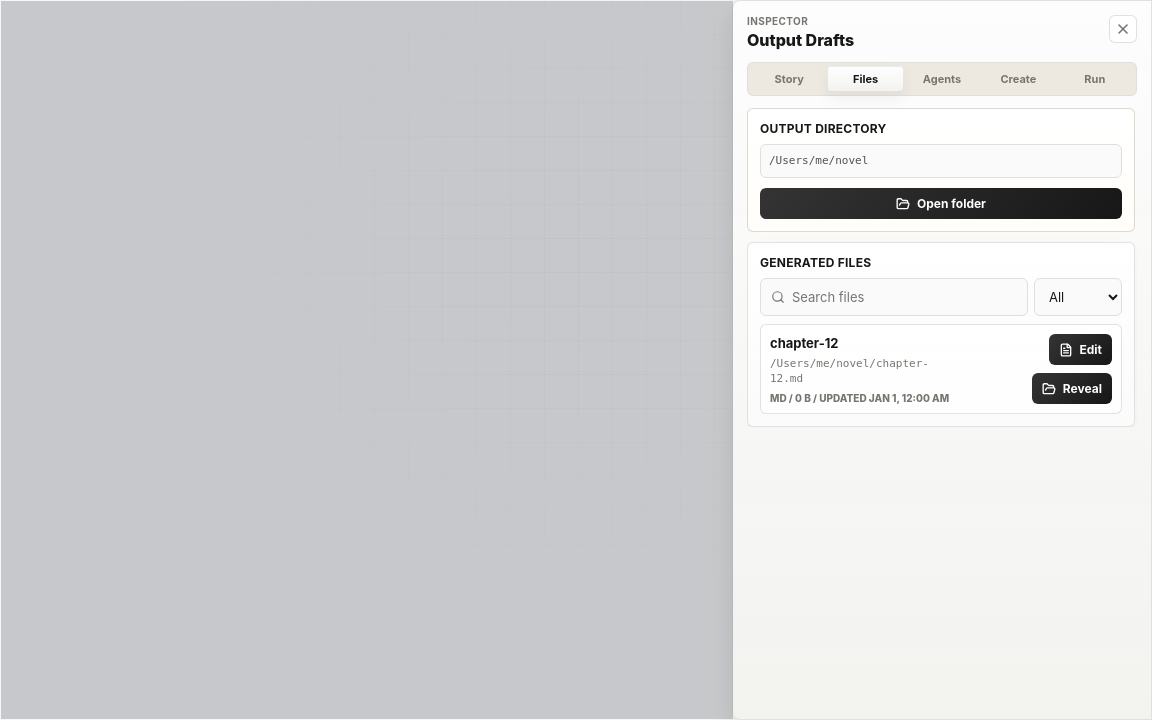
it: InspectorPanel › marks dirty workspace files and reverts to the loaded editor baseline
Click the button with aria-label "Open chapter-12 in editor". click: [1080, 350]
box: [1048, 334, 1112, 365]
(page scrolled)
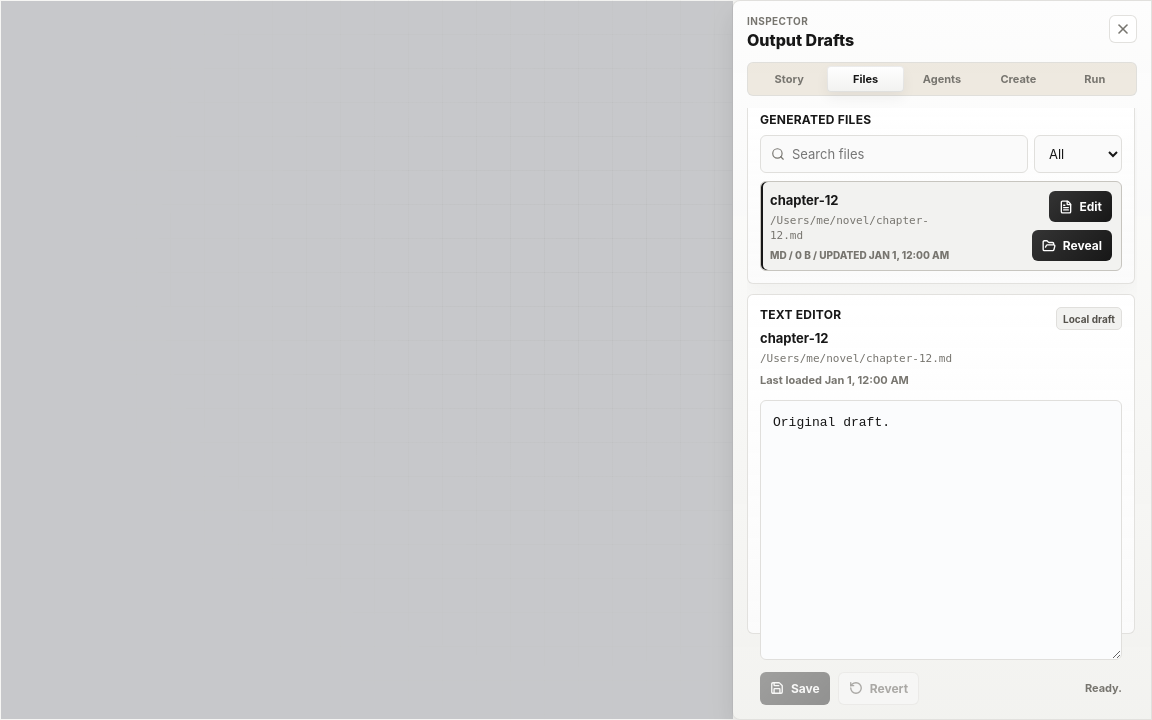
Now the text box named "Edit chapter-12" holds "Original draft."
Replace the text in the text box named "Edit chapter-12" with "Changed draft.". click: [941, 530]
box: [760, 400, 1122, 660]
(page scrolled)
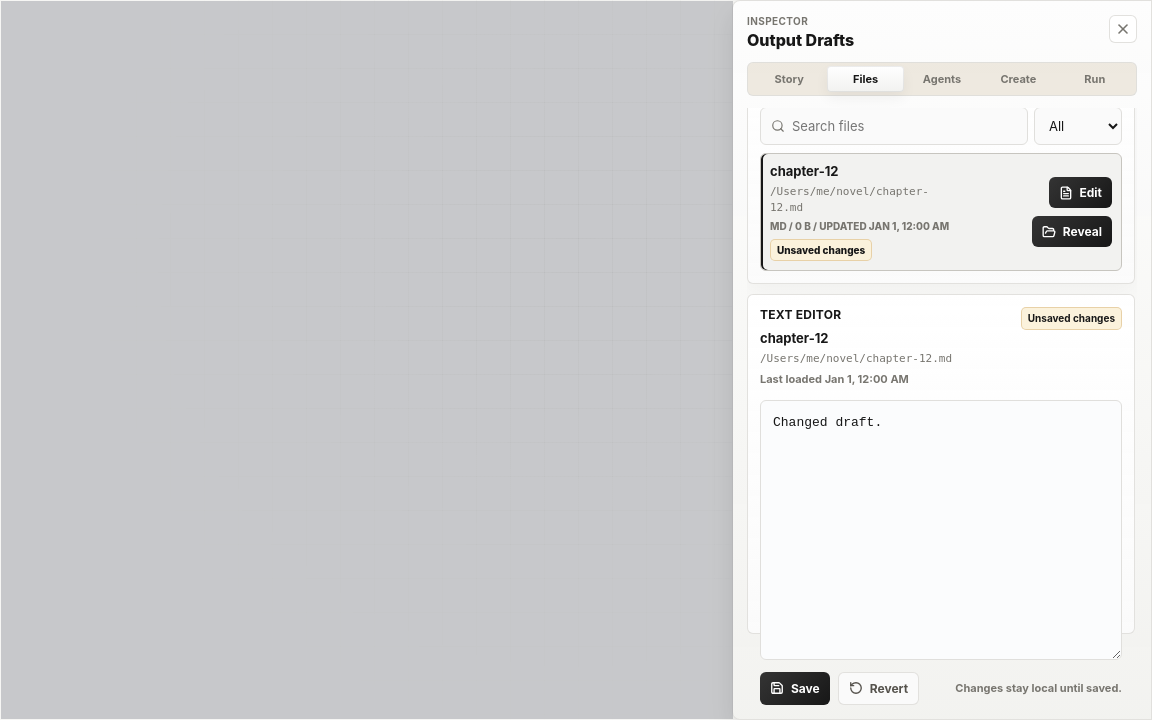
Now the text "Unsaved changes" below "0 B" is shown, box [777, 244, 865, 256]
Click the button with aria-label "Revert chapter-12 to last loaded version". click: [878, 688]
box: [838, 672, 919, 705]
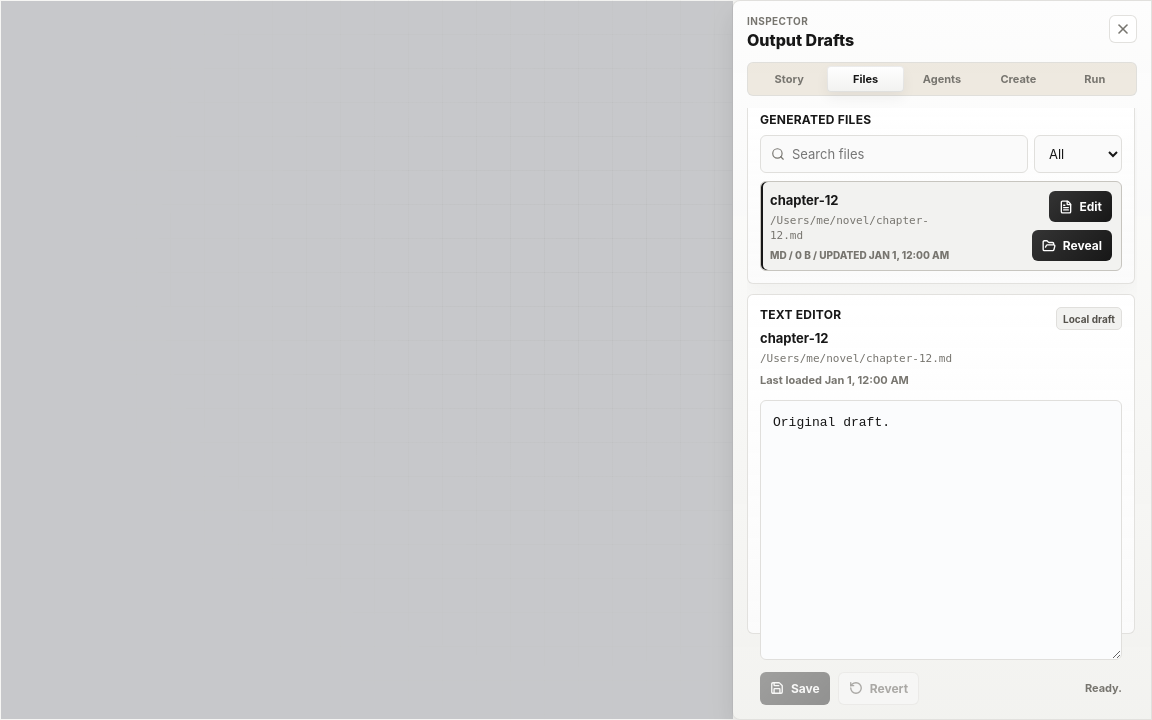
Now the text box named "Edit chapter-12" holds "Original draft.", box [760, 400, 1122, 660]
Now the text "Unsaved changes" is gone
